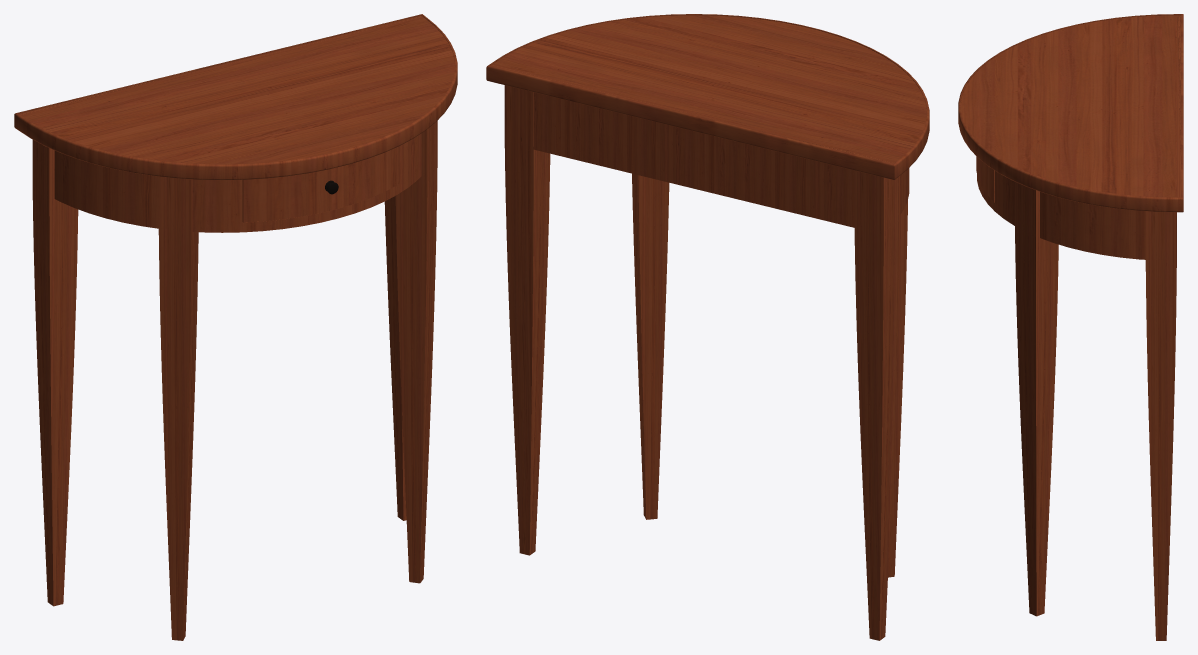
The model's file is Cabinet_001.FBX.
The picture shows the model from 3 angles, left to right: view 1: azimuth 30°, elevation 25°; view 2: azimuth 150°, elevation 25°; view 3: azimuth 270°, elevation 25°; orthographic projection. The views are drawn at different scales.
Parts seen in each view (by area): view 1: Cabinet_001; view 2: Cabinet_001; view 3: Cabinet_001.
Part boxes in pixels (bbox=[...]): Cabinet_001: bbox=[14, 14, 457, 640]; Cabinet_001: bbox=[486, 14, 929, 640]; Cabinet_001: bbox=[958, 14, 1183, 640].
Size of the model in its own units: 70 by 80 by 36.06.
2 materials, 1 textured.
